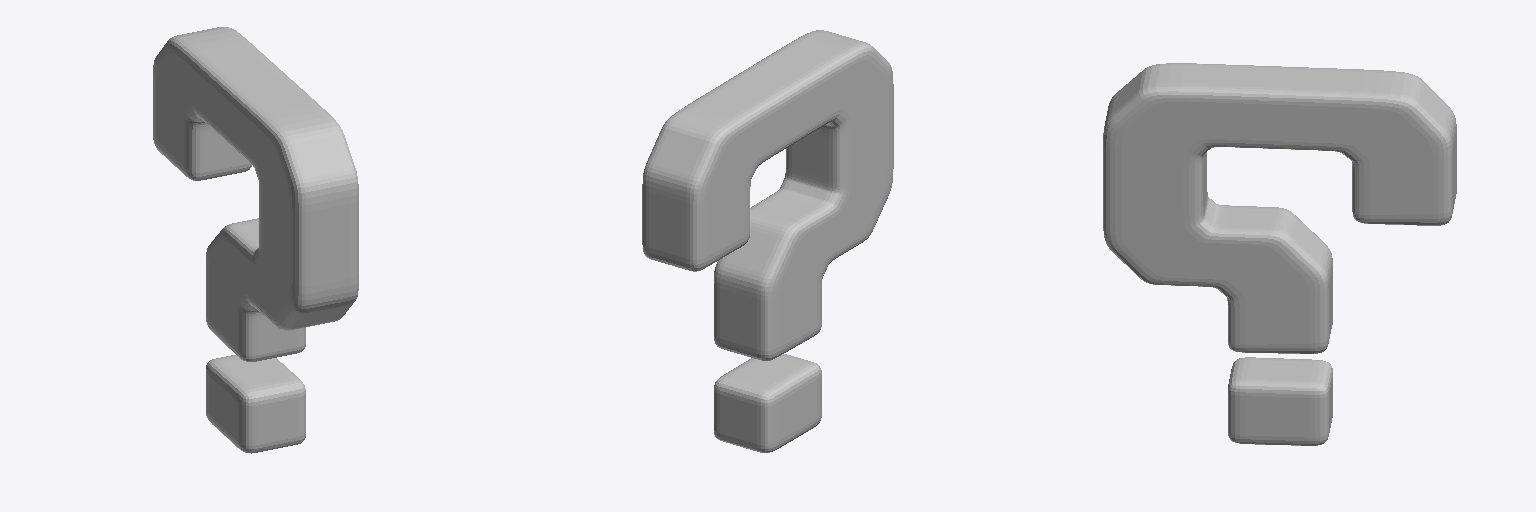
Rendered from question_mark.obj.
3 renders of one model, left to right at view 1: azimuth 30°, elevation 25°; view 2: azimuth 150°, elevation 25°; view 3: azimuth 270°, elevation 25°, orthographic.
Parts seen in each view (by area): view 1: Plane.002_Plane.003; view 2: Plane.002_Plane.003; view 3: Plane.002_Plane.003.
Part boxes in pixels (x1,y1,x2,y2): Plane.002_Plane.003: (153, 27, 358, 453); Plane.002_Plane.003: (642, 30, 893, 452); Plane.002_Plane.003: (1103, 63, 1456, 445).
Size of the model in its own units: 0.7792 by 3.08 by 2.78.